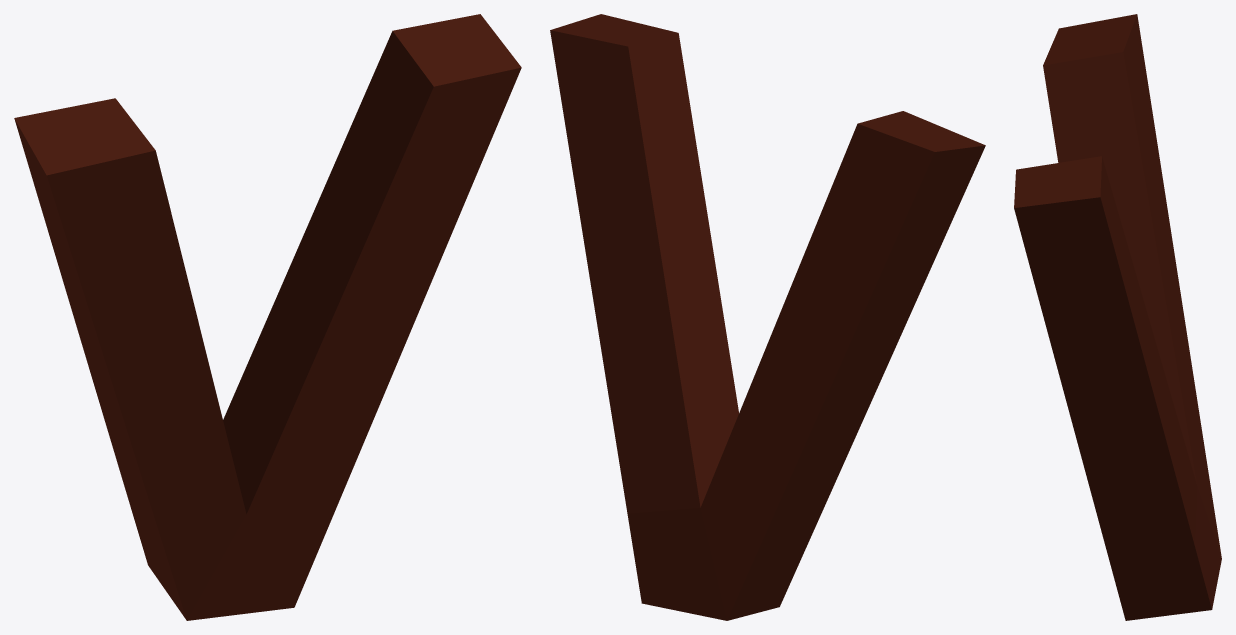
3 renders of one model, left to right at view 1: azimuth 30°, elevation 25°; view 2: azimuth 150°, elevation 25°; view 3: azimuth 270°, elevation 25°, orthographic. The views are drawn at different scales.
Visible parts, largest first — view 1: mesh_V; view 2: mesh_V; view 3: mesh_V.
Part boxes in pixels (x1,y1,x2,y2): mesh_V: (14, 14, 521, 620); mesh_V: (550, 14, 985, 620); mesh_V: (1014, 14, 1221, 620).
Size of the model in its own units: 63.64 by 75.27 by 28.29.
